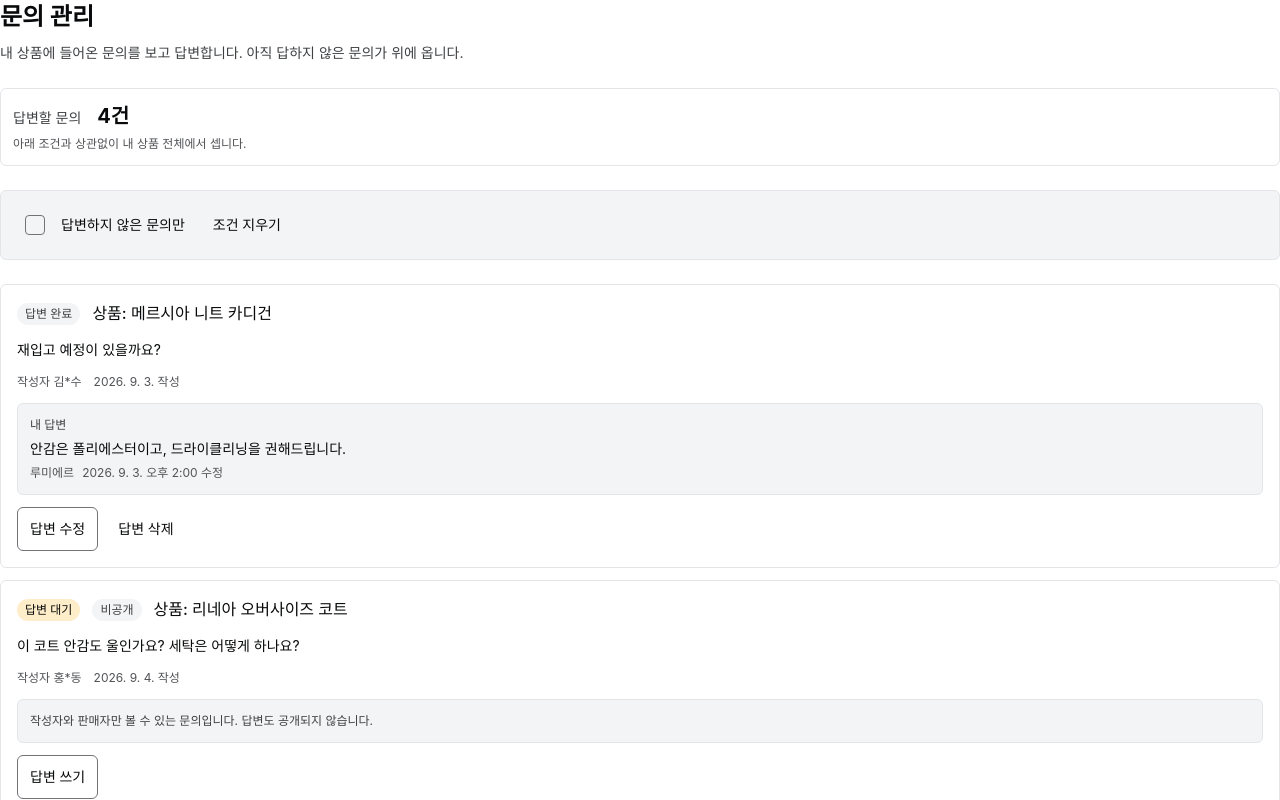
Test case: 답변 쓰기 › shows the saved answer on the row, and says so
Click the button "답변 쓰기" at (58, 777), box [17,755,98,799]
(page scrolled)
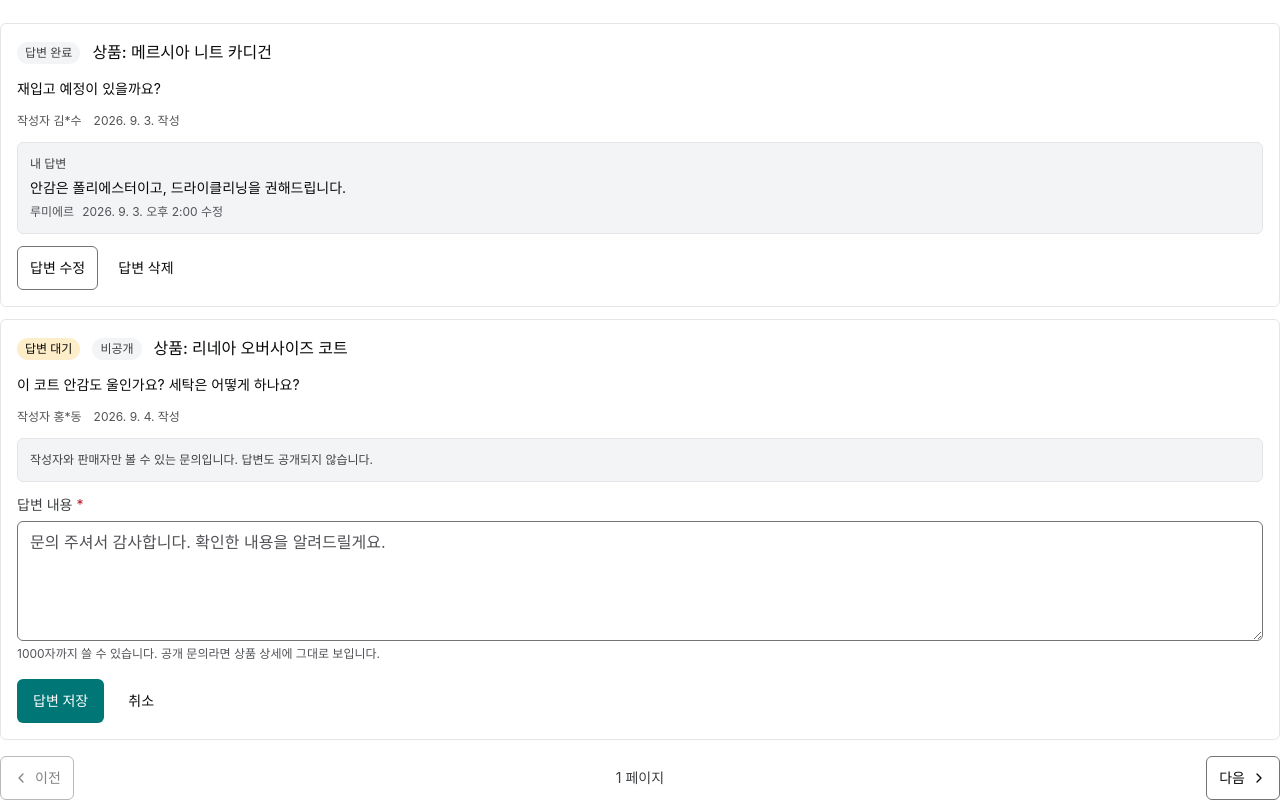
Type "안감은 울 30% 혼방이고, 드라이클리닝만 가능합니다." into the text box labelled "답변 내용" at (640, 581), box [17,521,1263,641]
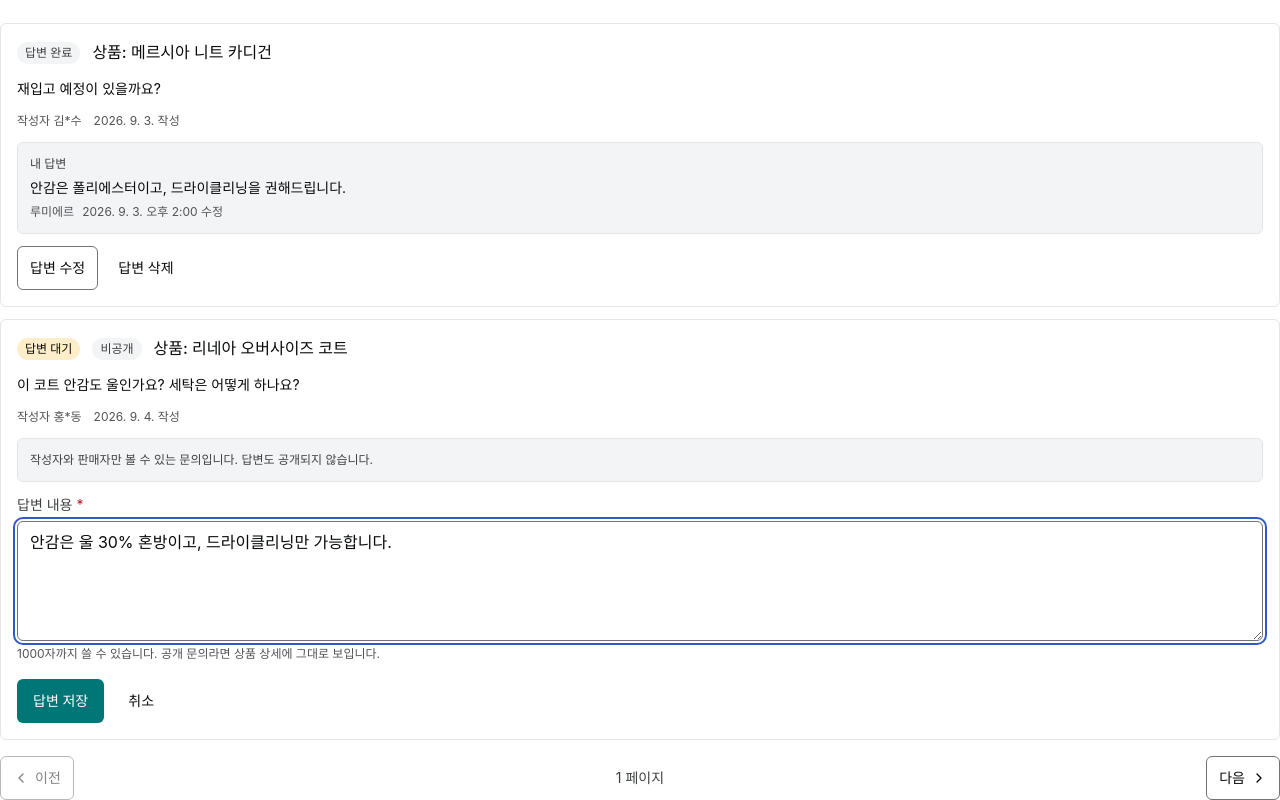
Click the button "답변 저장" at (61, 701), box [17,679,104,723]
(page scrolled)
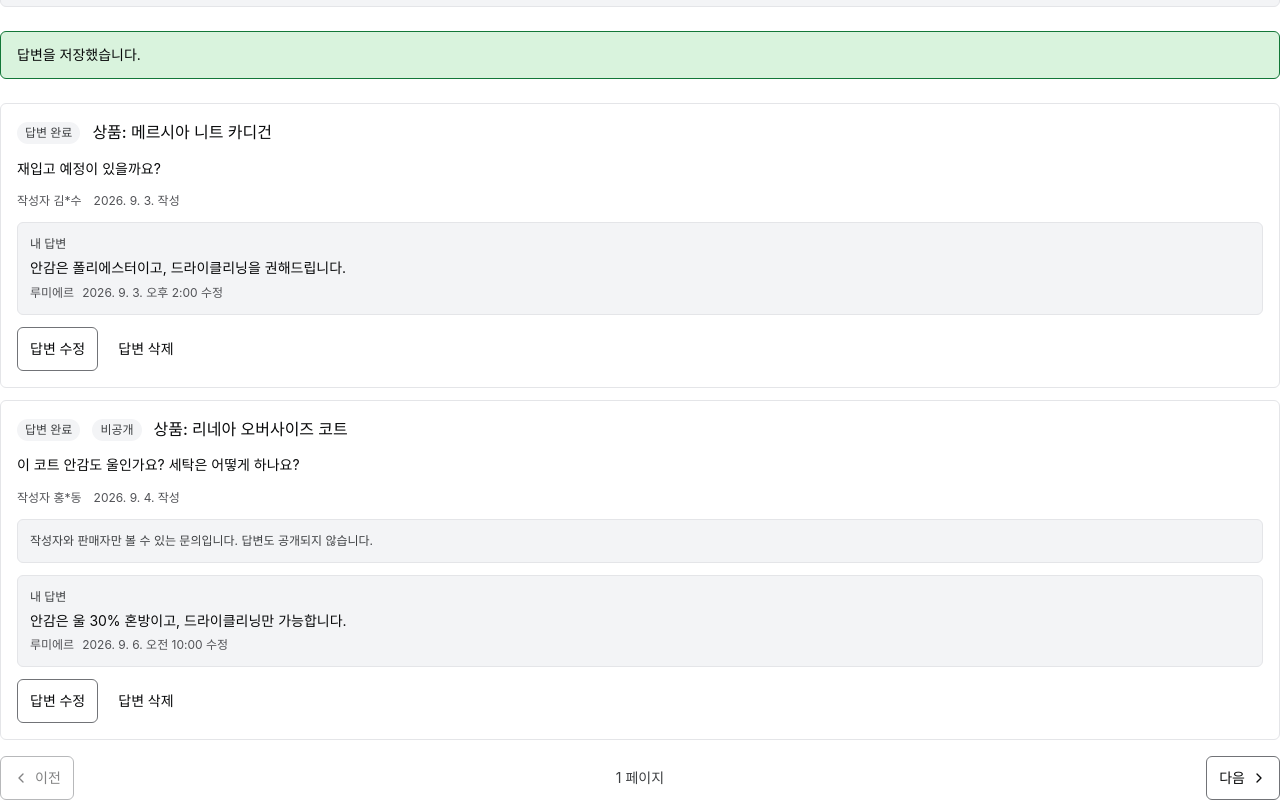
Result: the text "안감은 울 30% 혼방이고, 드라이클리닝만 가능합니다." is shown at [30,612,347,629]
Result: the text "답변을 저장했습니다." is shown at [0,31,1279,79]
Result: the label "답변 내용" is gone
